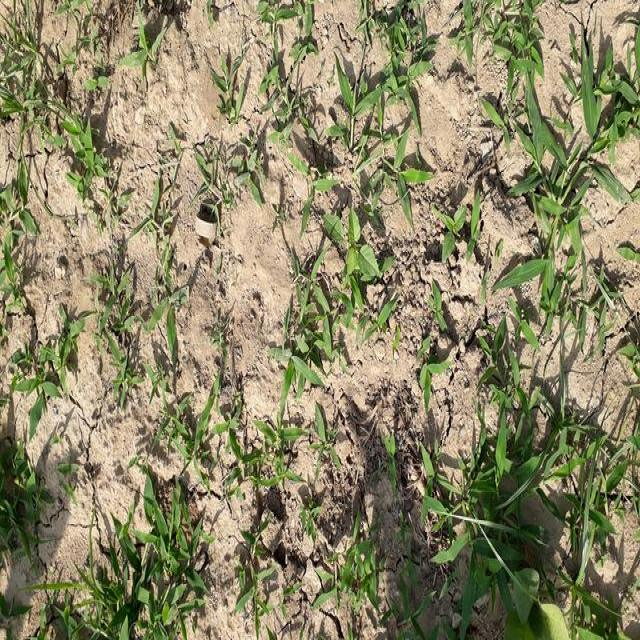weed: (420, 382, 640, 640), (479, 26, 635, 350), (280, 36, 410, 372), (55, 473, 272, 640)
